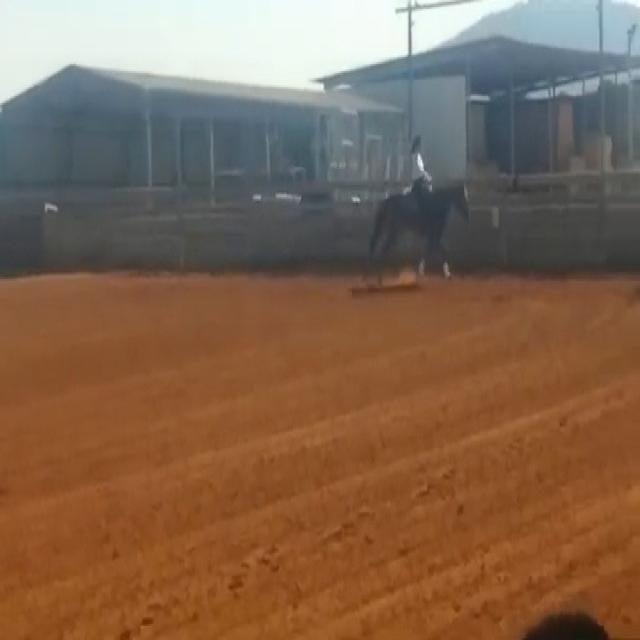horse: (366, 174, 471, 281)
